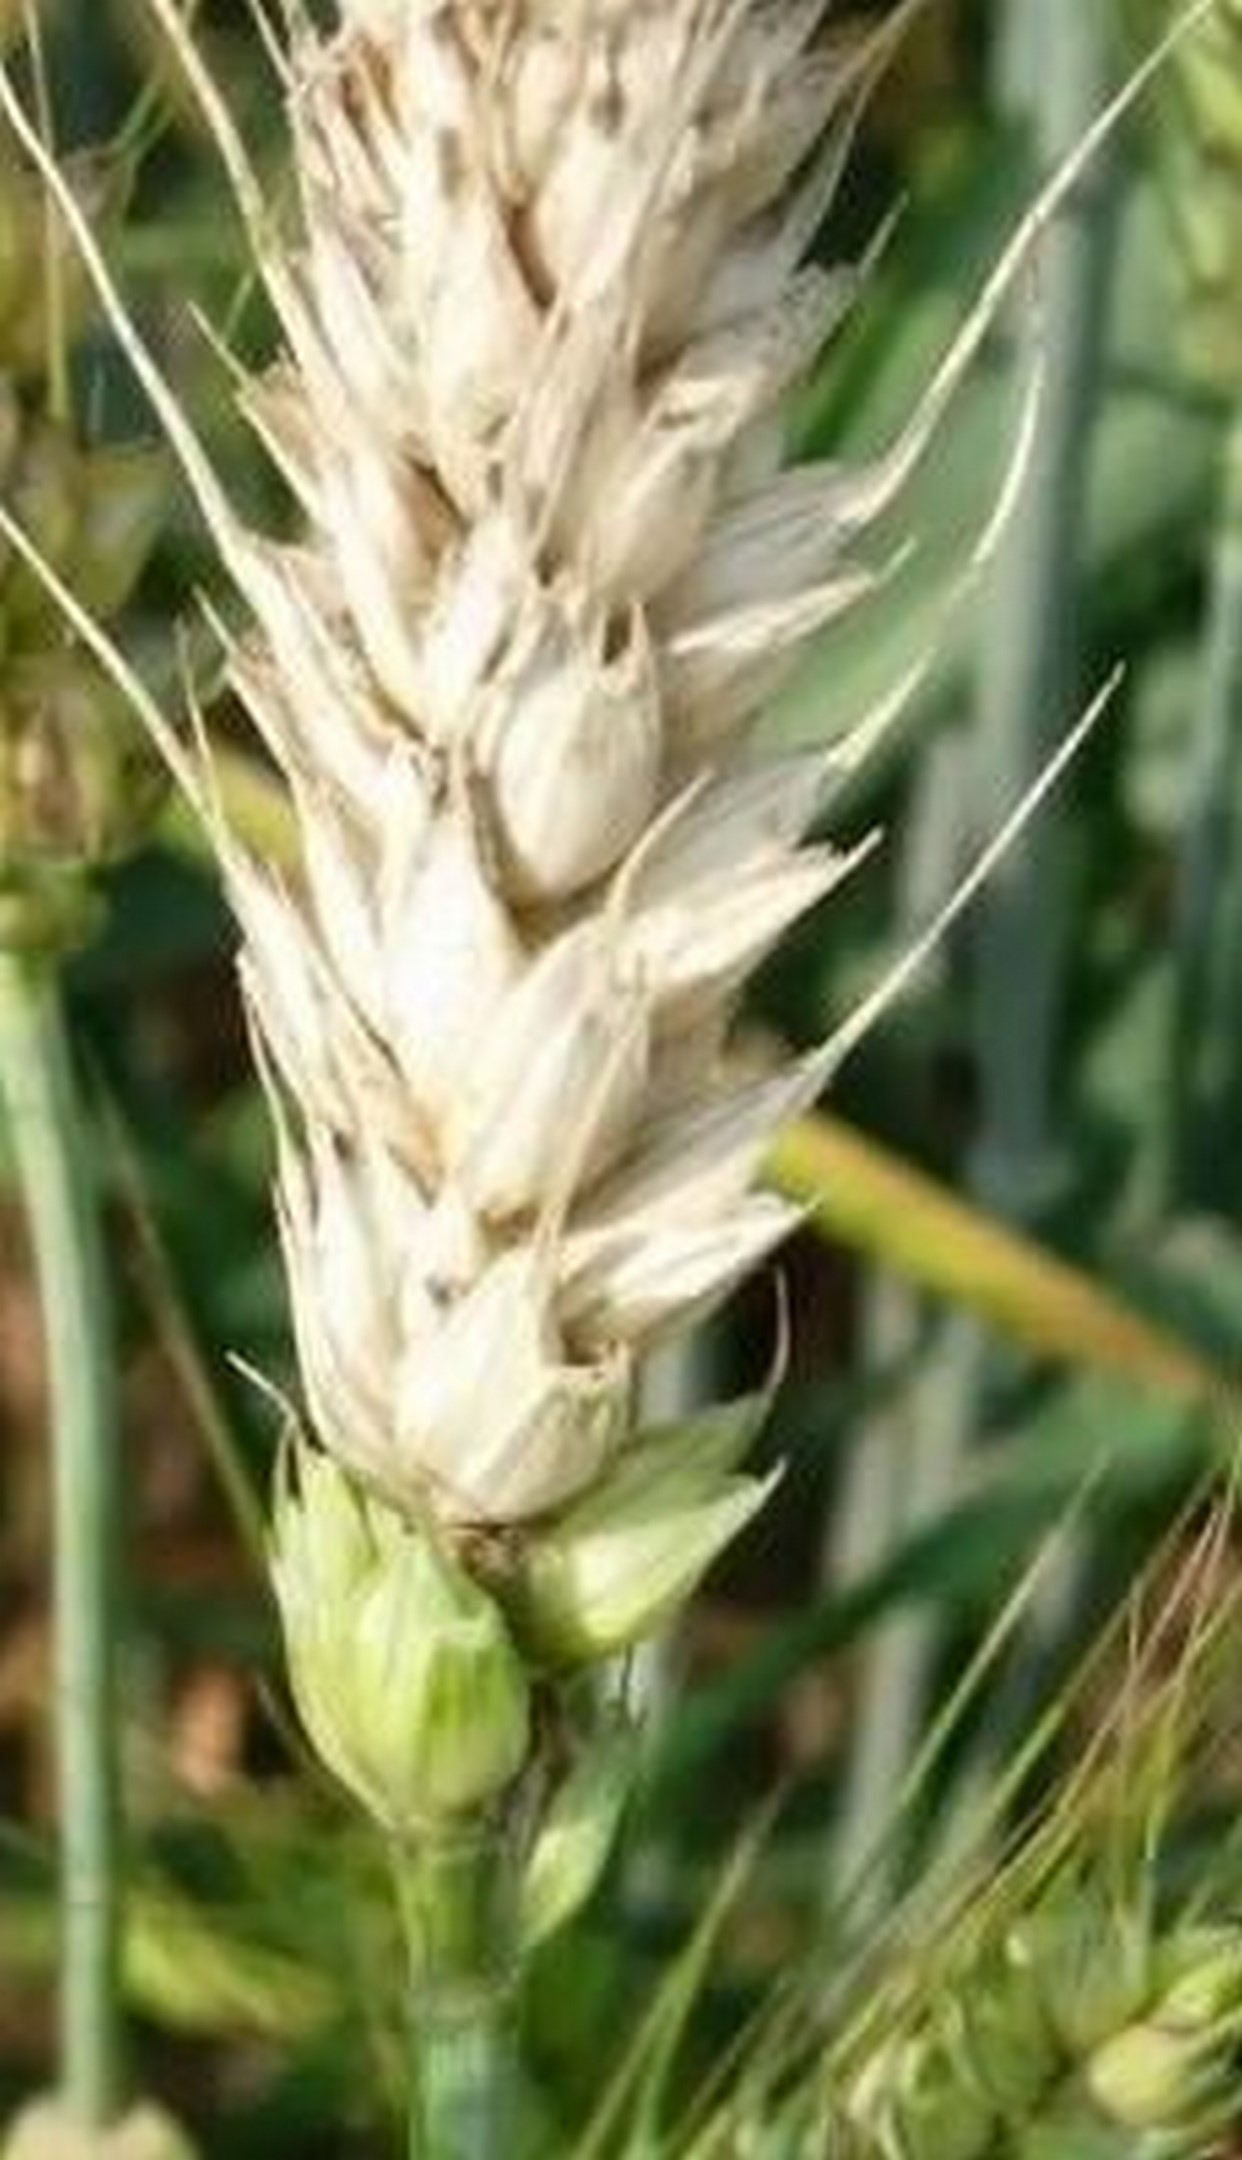Wheat scab: (206, 1, 950, 1963)
